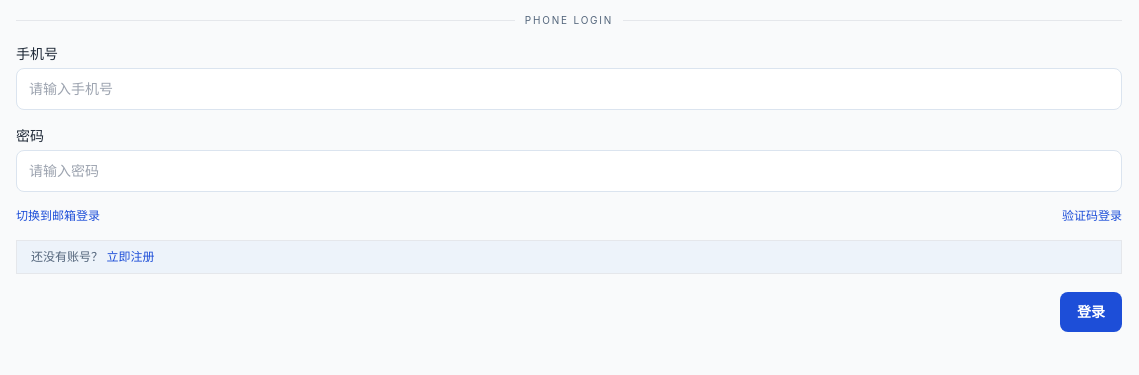
Test: AuthLoginForm transport ownership › clears an existing email OTP session when a resend gets a 503
Click the button "切换到邮箱登录".
click(58, 216)  # box [16, 208, 100, 224]
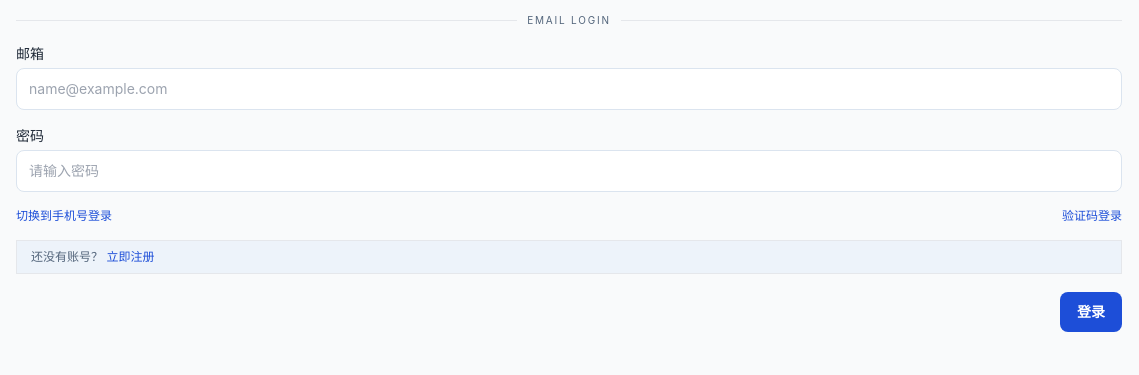
Click the button "验证码登录".
click(1092, 216)  # box [1062, 208, 1122, 224]
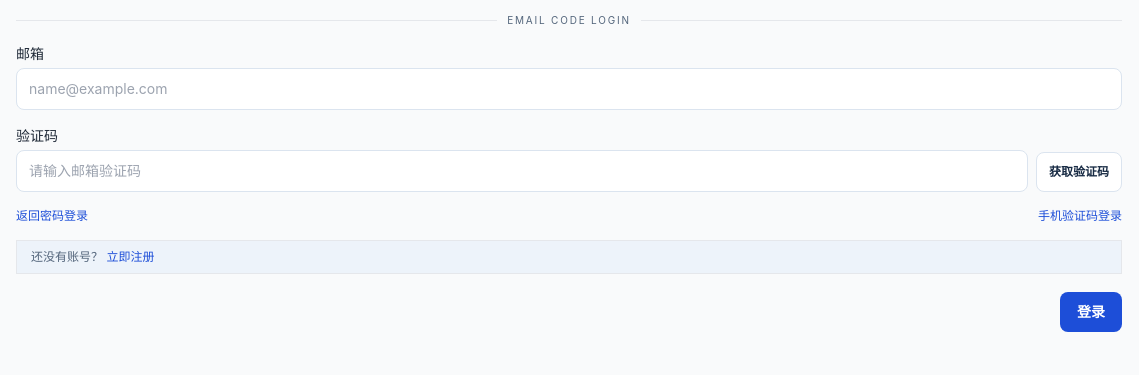
Type "resend-email@example.test" into the field with id "auth-login-email".
click(569, 89); type("resend-email@example.test")  # box [16, 68, 1122, 110]
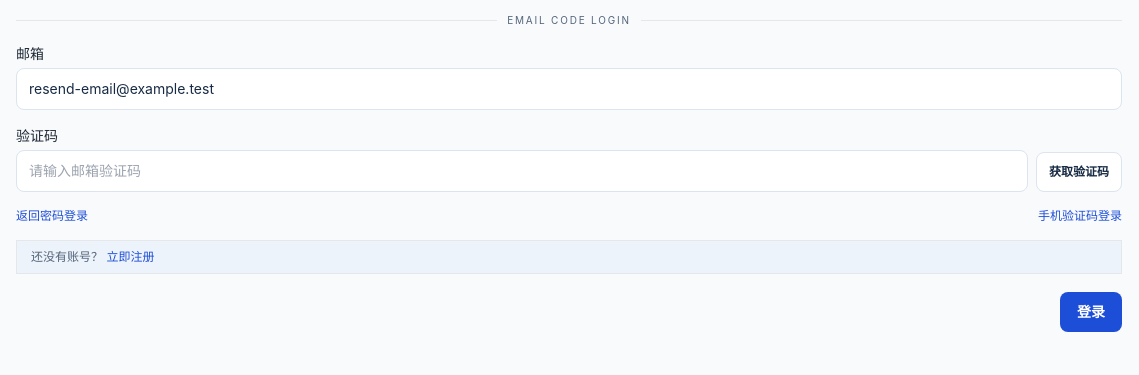
Click the button "获取验证码".
click(1079, 172)  # box [1036, 152, 1122, 192]
Wait 1000 ms
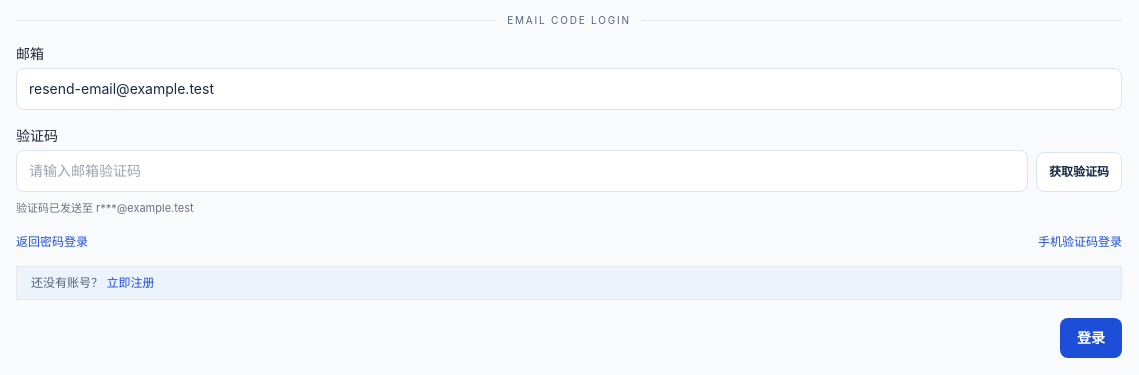
Type "2468" into the field with id "auth-login-code".
click(522, 171); type("2468")  # box [16, 150, 1028, 192]
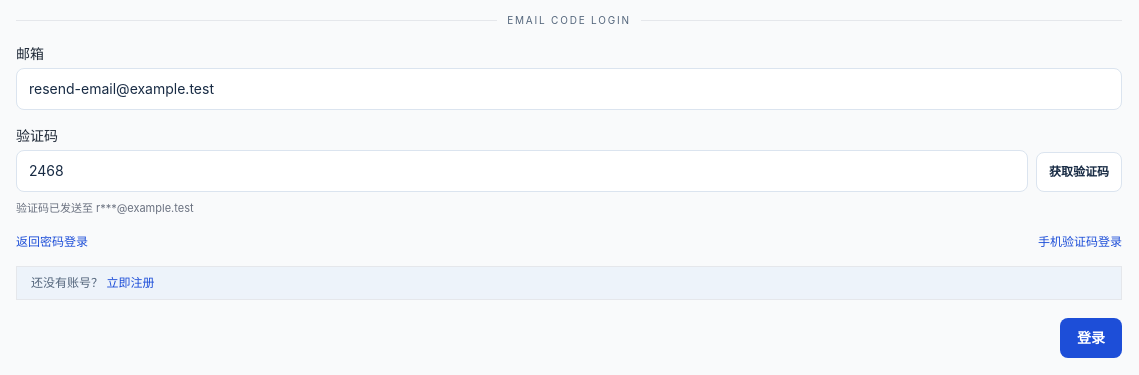
Click the button "获取验证码".
click(1079, 172)  # box [1036, 152, 1122, 192]
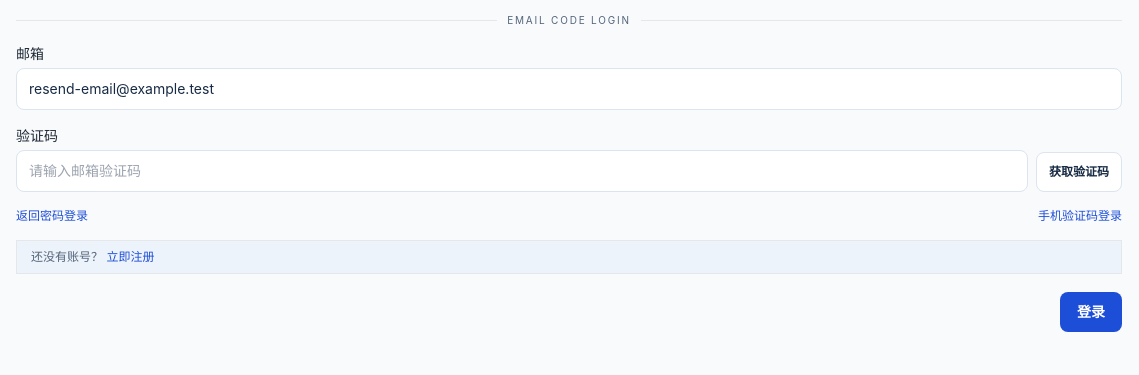
Expected: the text "r***@example.test" is gone
Expected: the field with id "auth-login-code" is empty, [16, 150, 1028, 192]
